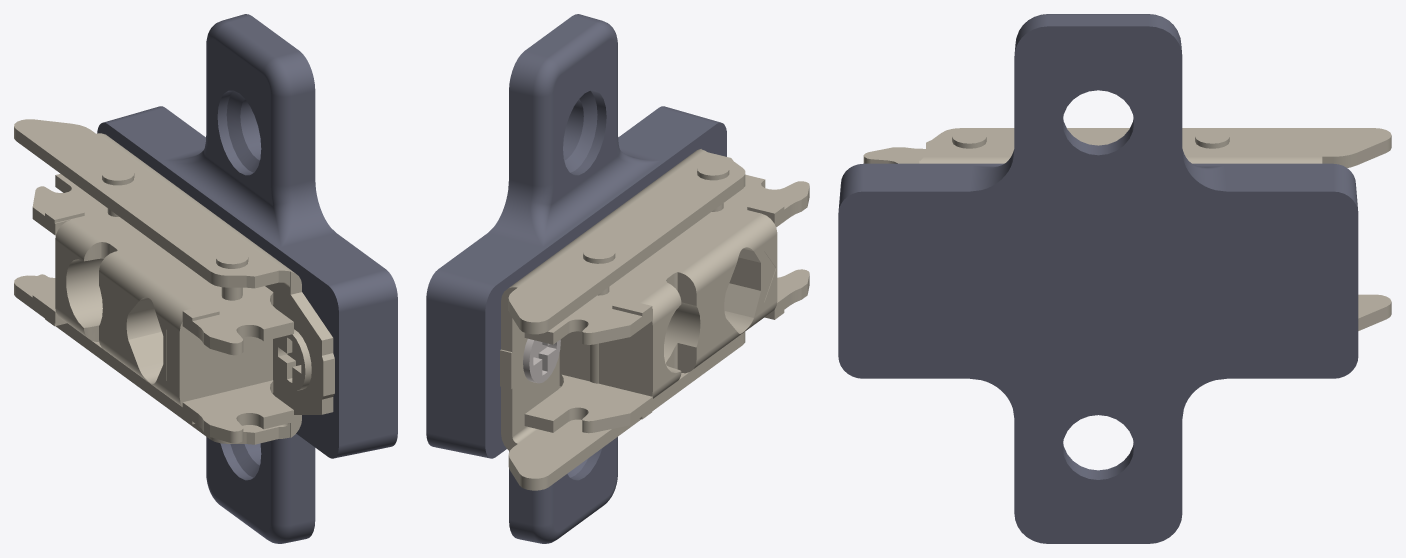
The picture shows the model from 3 angles, left to right: view 1: azimuth 30°, elevation 25°; view 2: azimuth 150°, elevation 25°; view 3: azimuth 270°, elevation 25°; orthographic projection. The views are drawn at different scales.
Parts seen in each view (by area): view 1: bau0219151221-2, bau0074227963-2; view 2: bau0219151221-2, bau0074227963-2; view 3: bau0074227963-2, bau0219151221-2.
Boxes of the visible parts, <box> form: bau0219151221-2: <box>14,119,334,444</box>; bau0074227963-2: <box>97,14,397,543</box>; bau0219151221-2: <box>500,149,809,490</box>; bau0074227963-2: <box>426,14,726,543</box>; bau0074227963-2: <box>838,14,1358,543</box>; bau0219151221-2: <box>863,128,1391,330</box>.
Bounding box in the file's own units: 17.85 × 51 × 49.41.
